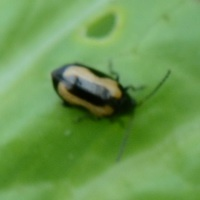insect: (52, 63, 170, 116)
